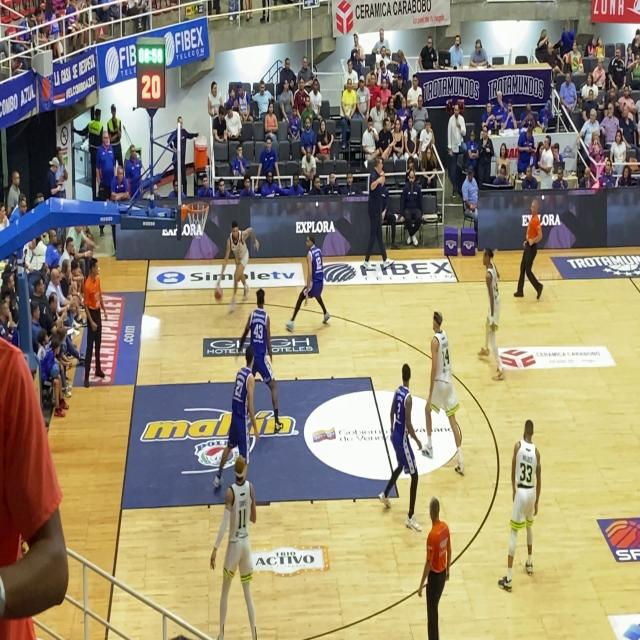Ball: (211, 282, 224, 306)
referee: (415, 498, 455, 640), (78, 255, 105, 390), (516, 200, 548, 312)
team1: (208, 453, 259, 640), (421, 290, 461, 474), (501, 412, 540, 594), (472, 243, 506, 386), (207, 224, 252, 315)
team2: (376, 353, 423, 536), (282, 231, 333, 342), (216, 347, 258, 451), (244, 282, 276, 358)
ubasket: (184, 190, 210, 239)
